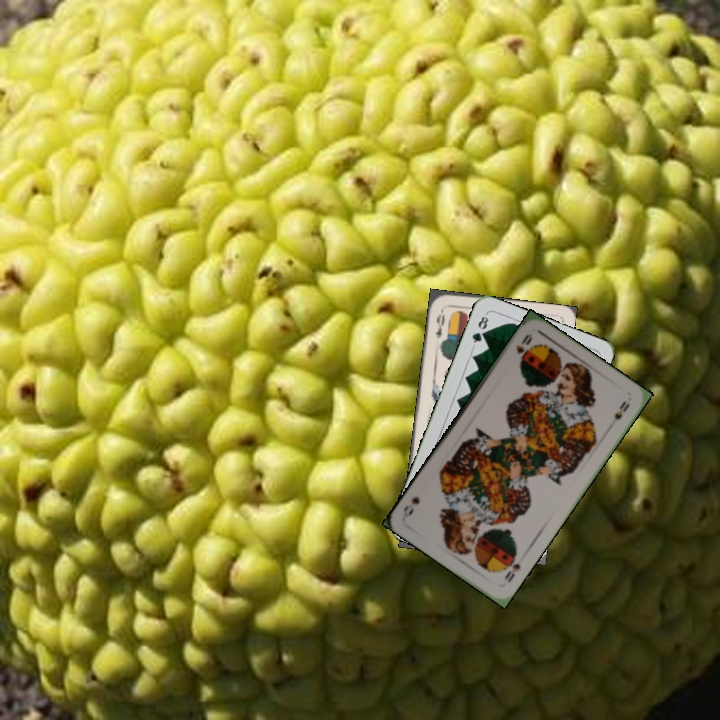EO: (431, 305, 447, 341)
G8: (468, 310, 491, 349)
SO: (512, 330, 535, 357), (500, 559, 523, 585)
